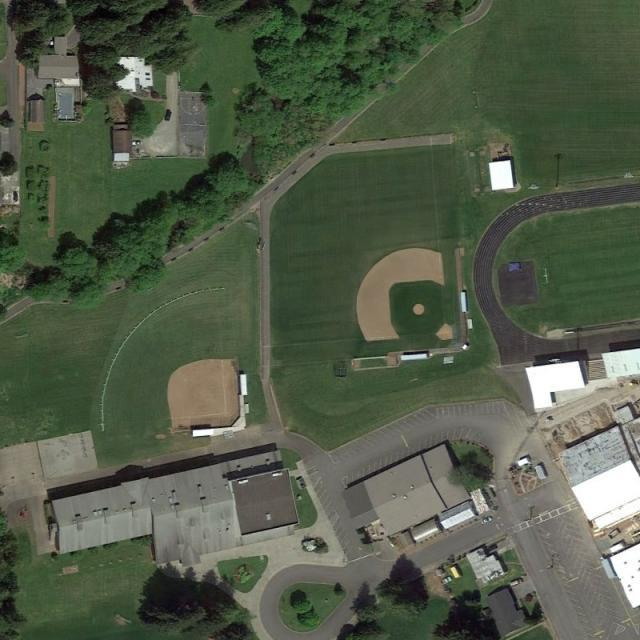vehicle: (510, 578, 523, 586), (164, 110, 172, 121), (482, 517, 493, 523), (442, 577, 453, 583), (132, 140, 142, 146)
